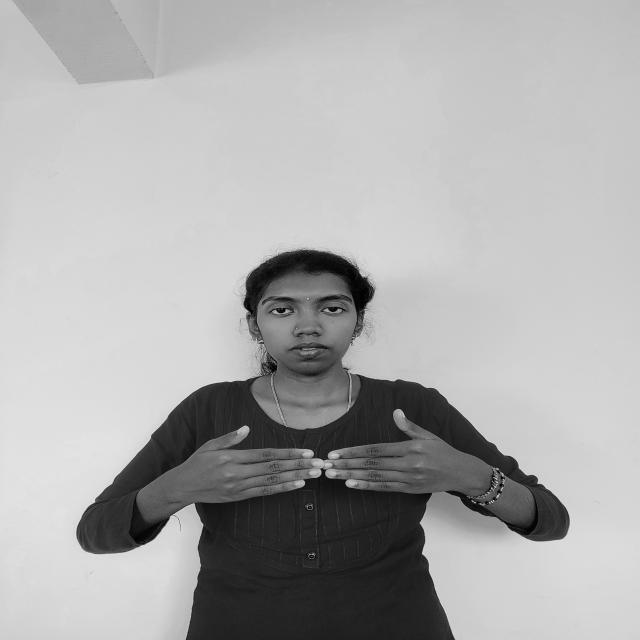Night: (165, 408, 483, 509)
